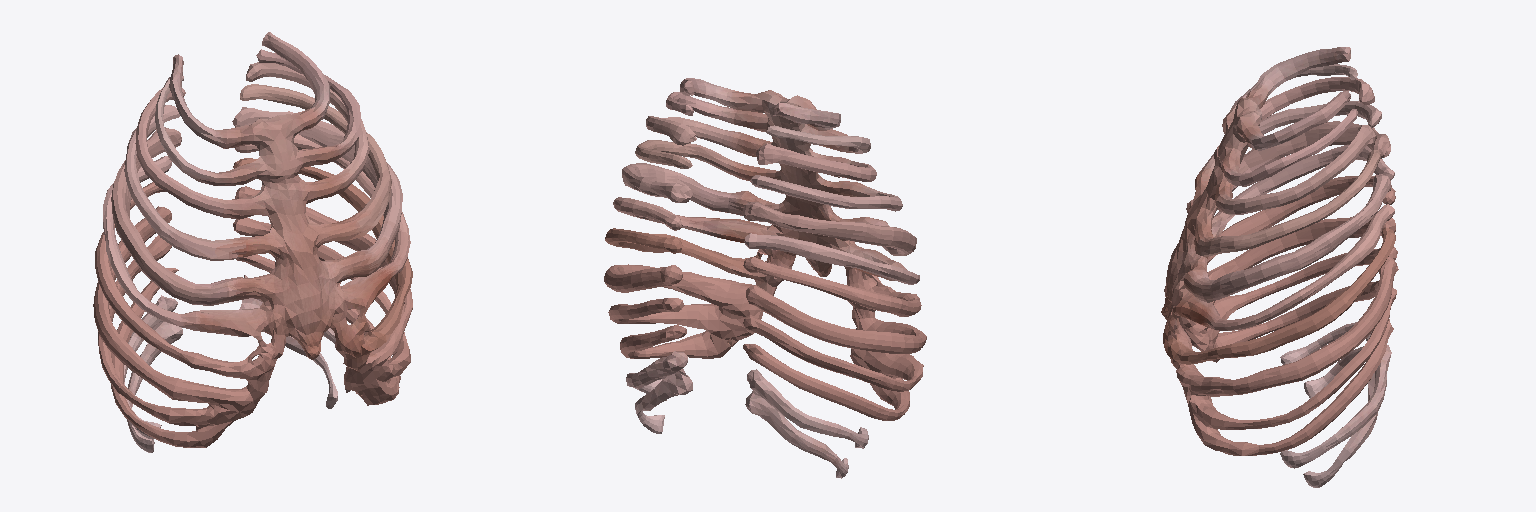
The picture shows the model from 3 angles: view 1: azimuth 30°, elevation 25°; view 2: azimuth 150°, elevation 25°; view 3: azimuth 270°, elevation 25°; orthographic projection.
Visible parts, largest first — view 1: ZBrush_defualt_group, Group4, Group5; view 2: ZBrush_defualt_group, Group4, Group5; view 3: ZBrush_defualt_group, Group5, Group4.
Part boxes in pixels (x1,y1,x2,y2): ZBrush_defualt_group: (93,32,412,447); Group4: (124,295,182,452); Group5: (239,275,350,408); ZBrush_defualt_group: (604,78,926,420); Group4: (745,369,868,478); Group5: (626,351,692,433); ZBrush_defualt_group: (1161,47,1398,455); Group5: (1280,345,1391,487); Group4: (1280,317,1389,398).
Size of the model in its own units: 1.88 by 2.3 by 1.32.
1 materials, 1 textured.